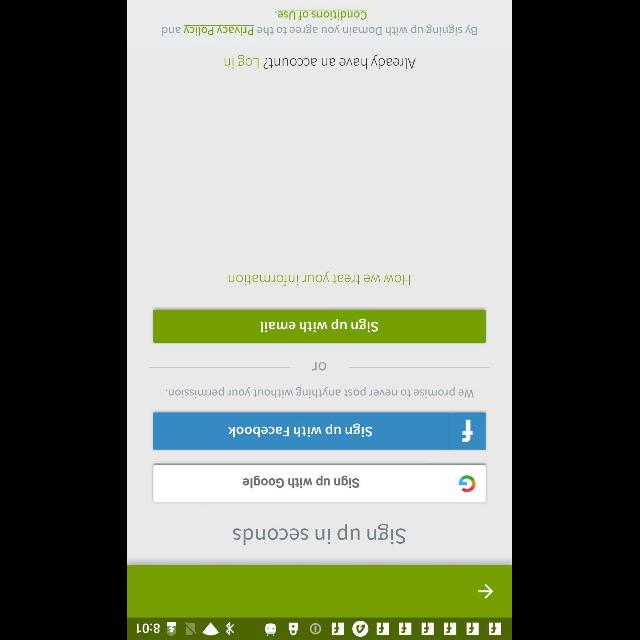icon: (478, 584, 494, 598)
text: (162, 10, 478, 36), (234, 524, 406, 544), (166, 388, 474, 398), (226, 55, 417, 69), (230, 272, 410, 286), (313, 362, 327, 371)
textbutton: (154, 464, 486, 502), (154, 412, 486, 450), (154, 310, 486, 342)
toolbar: (128, 565, 512, 617)
uppertaskbar: (128, 617, 512, 639)
